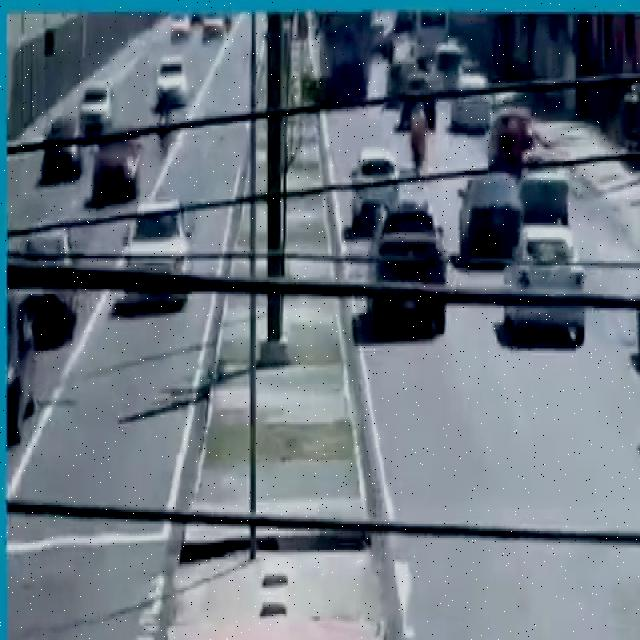car: (362, 190, 450, 330), (498, 222, 588, 345), (120, 195, 193, 308), (348, 138, 401, 228), (633, 247, 640, 379)
